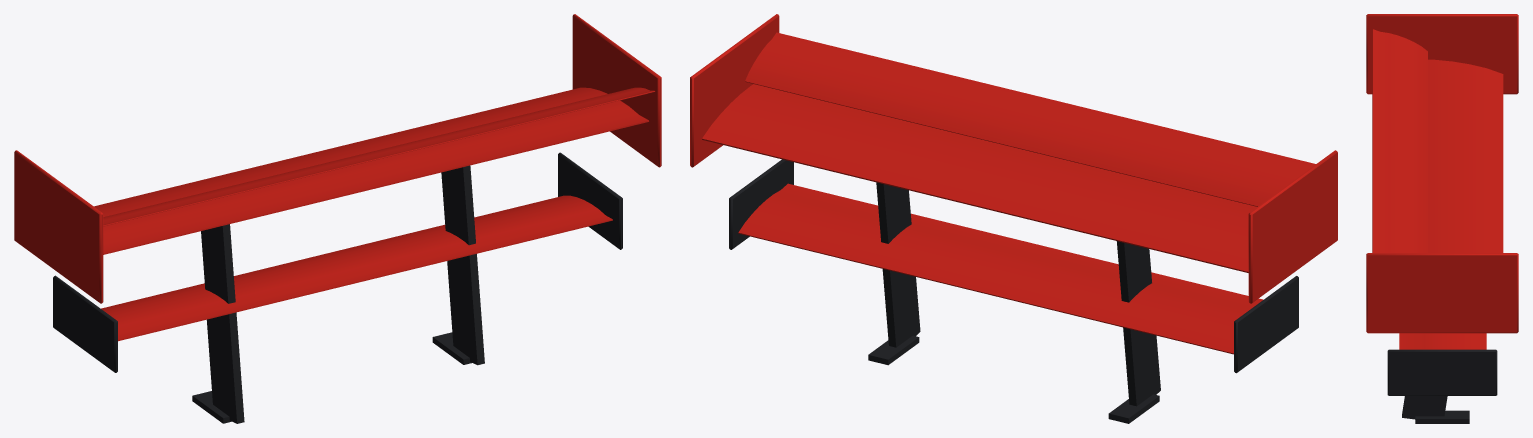
File: buggy_kit.glb
The picture shows the model from 3 angles, left to right: view 1: azimuth 30°, elevation 25°; view 2: azimuth 150°, elevation 25°; view 3: azimuth 270°, elevation 25°; orthographic projection. The views are drawn at different scales.
Visible parts, largest first — view 1: spoiler_mega, spoiler_wing; view 2: spoiler_mega, spoiler_wing; view 3: spoiler_mega, spoiler_wing.
Boxes of the visible parts, x1,y1,x2,y2 form: spoiler_mega: (14, 14, 661, 423); spoiler_wing: (53, 152, 622, 420); spoiler_mega: (690, 14, 1337, 423); spoiler_wing: (729, 159, 1298, 406); spoiler_mega: (1366, 14, 1518, 423); spoiler_wing: (1387, 333, 1497, 418).
Bounding box in the file's own units: 1.68 × 0.7705 × 0.45.
